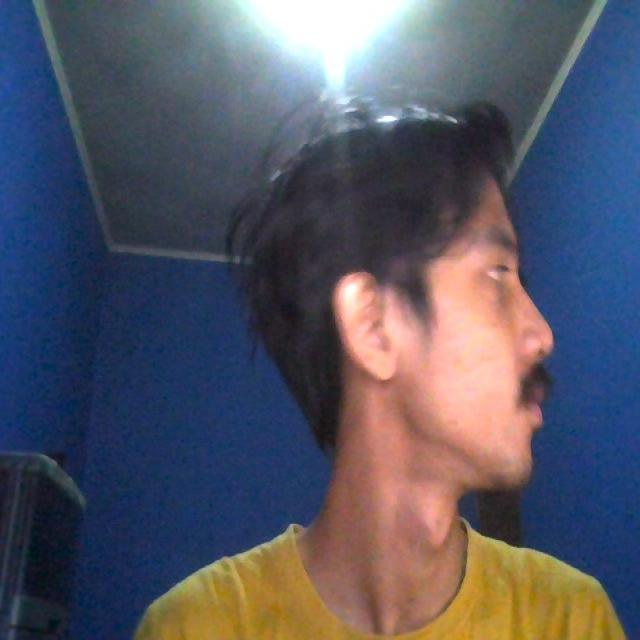melihat kekiri: (198, 100, 576, 525)
